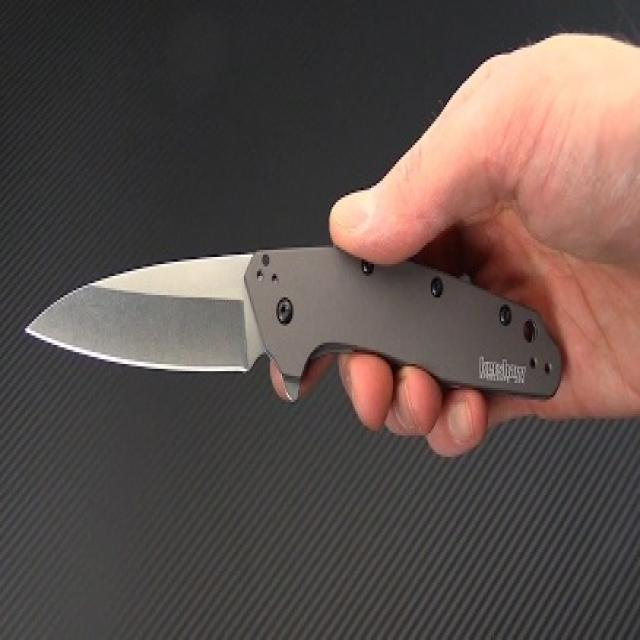knife: (16, 247, 568, 428)
